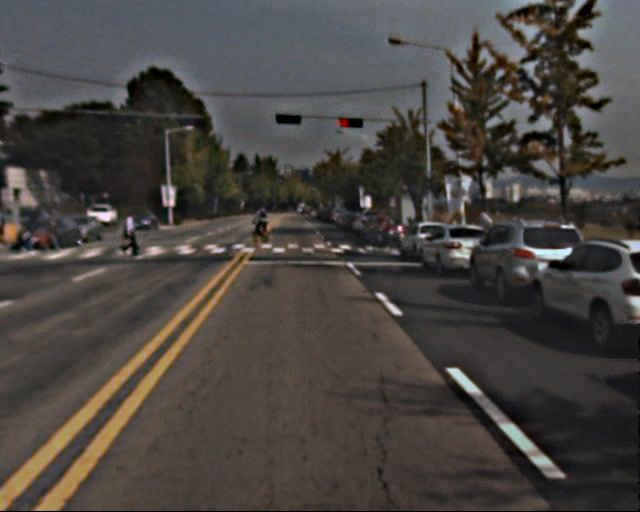person: (28, 210, 62, 251), (123, 213, 142, 259), (253, 206, 270, 248), (372, 209, 389, 250)
